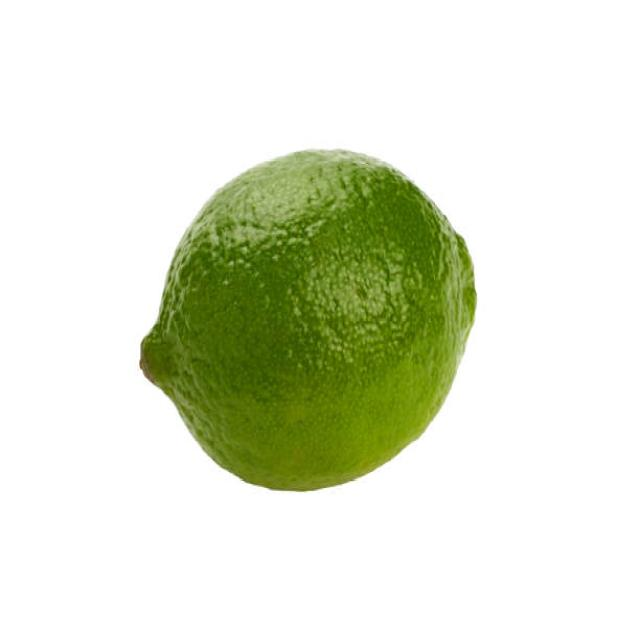Lemon: (139, 146, 478, 492)
